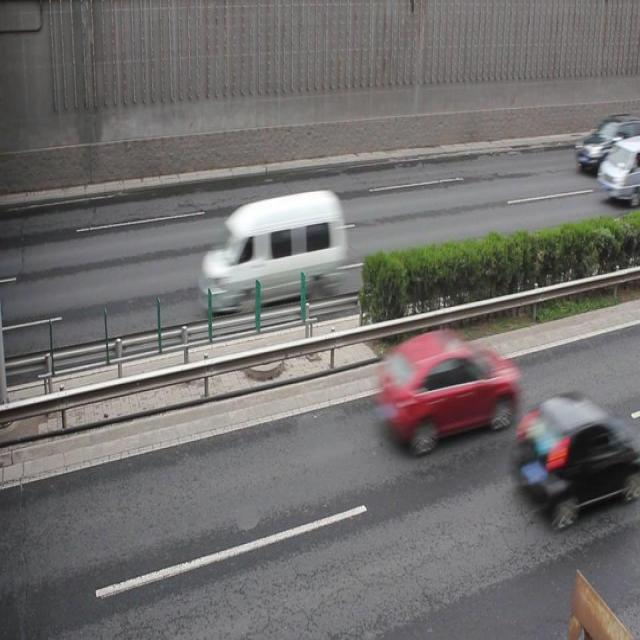car: (378, 326, 519, 454), (510, 389, 640, 527), (574, 115, 640, 173)
truck: (198, 186, 344, 307), (594, 134, 640, 205)
